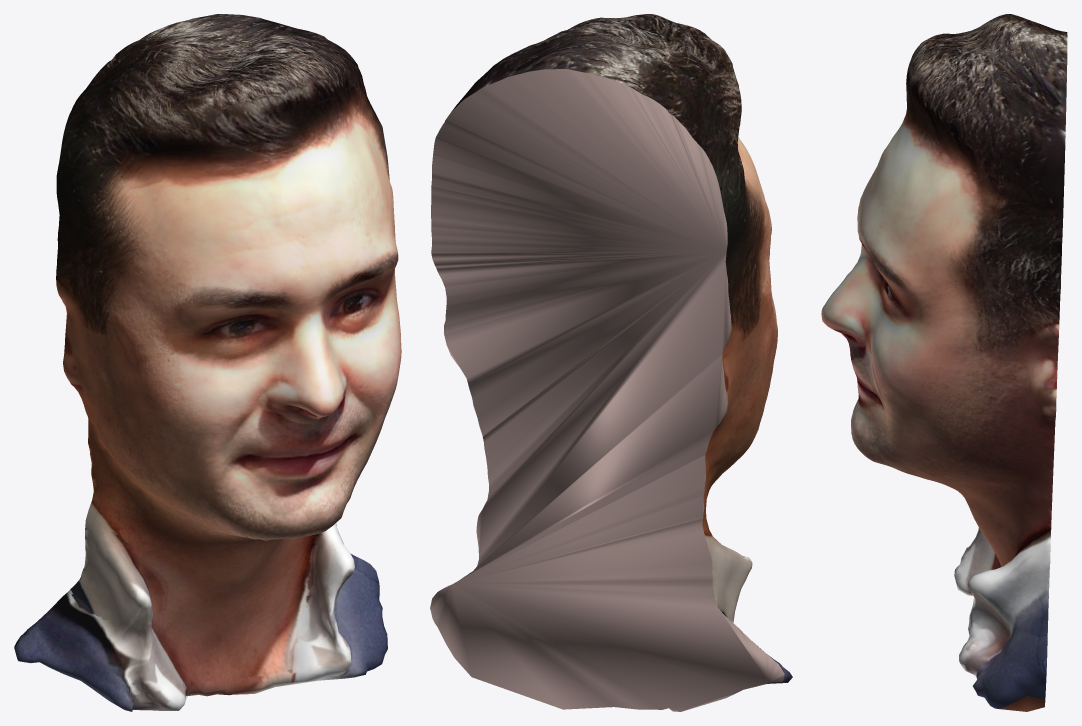
3 views of the same model, side by side, from view 1: azimuth 30°, elevation 25°; view 2: azimuth 150°, elevation 25°; view 3: azimuth 270°, elevation 25° (orthographic). The views are drawn at different scales.
Parts seen in each view (by area): view 1: node-0; view 2: node-0; view 3: node-0.
Part boxes in pixels (x1,y1,x2,y2): node-0: [14, 14, 401, 711]; node-0: [430, 14, 792, 711]; node-0: [821, 14, 1067, 711].
Bounding box in the file's own units: 0.307 × 0.5429 × 0.197.
Materials: 1 (1 with a texture image).
